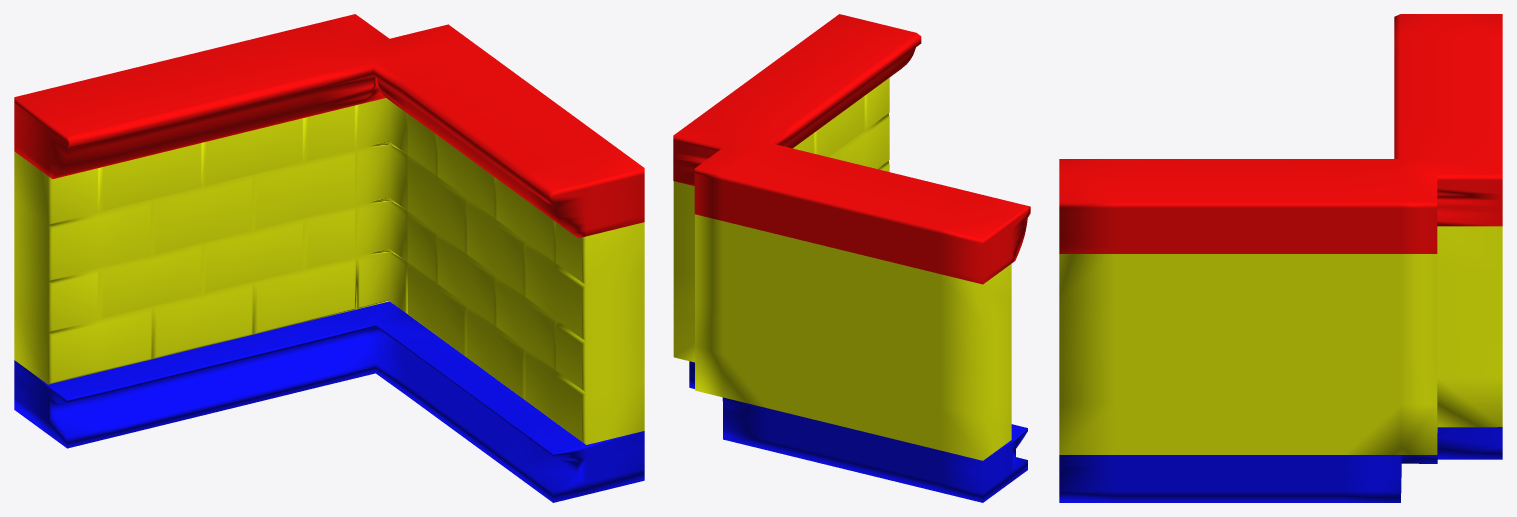
Rendered from NEW_corner_textured.fbx.
The picture shows the model from 3 angles, left to right: view 1: azimuth 30°, elevation 25°; view 2: azimuth 150°, elevation 25°; view 3: azimuth 270°, elevation 25°; orthographic projection. The views are drawn at different scales.
Visible parts, largest first — view 1: wall_low14 (×3); view 2: wall_low14 (×3); view 3: wall_low14 (×3).
Boxes of the visible parts, x1,y1,x2,y2 form: wall_low14 (×3): (14,14,644,502); wall_low14 (×3): (673,14,1030,502); wall_low14 (×3): (1059,14,1502,502).
Size of the model in its own units: 7.26 by 5.42 by 7.24.
